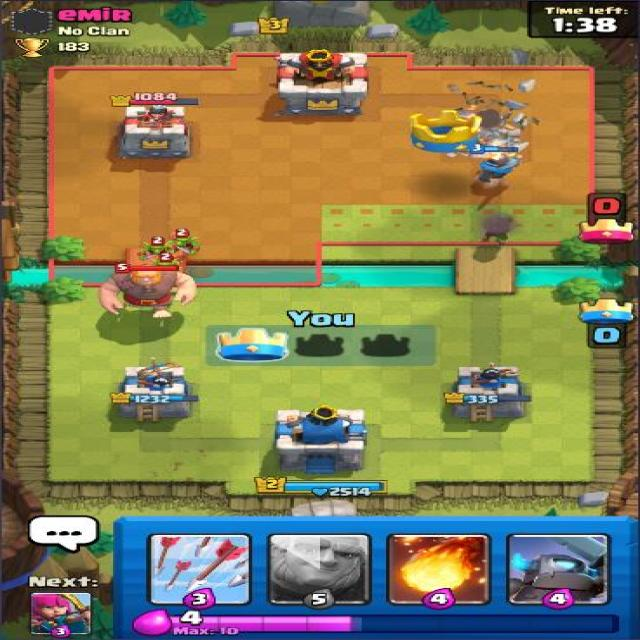Enemy-Giant: (98, 262, 198, 321)
Enemy-Goblin: (162, 229, 205, 259), (150, 254, 190, 286), (136, 235, 177, 266)
Player-Knight: (468, 140, 530, 190)
